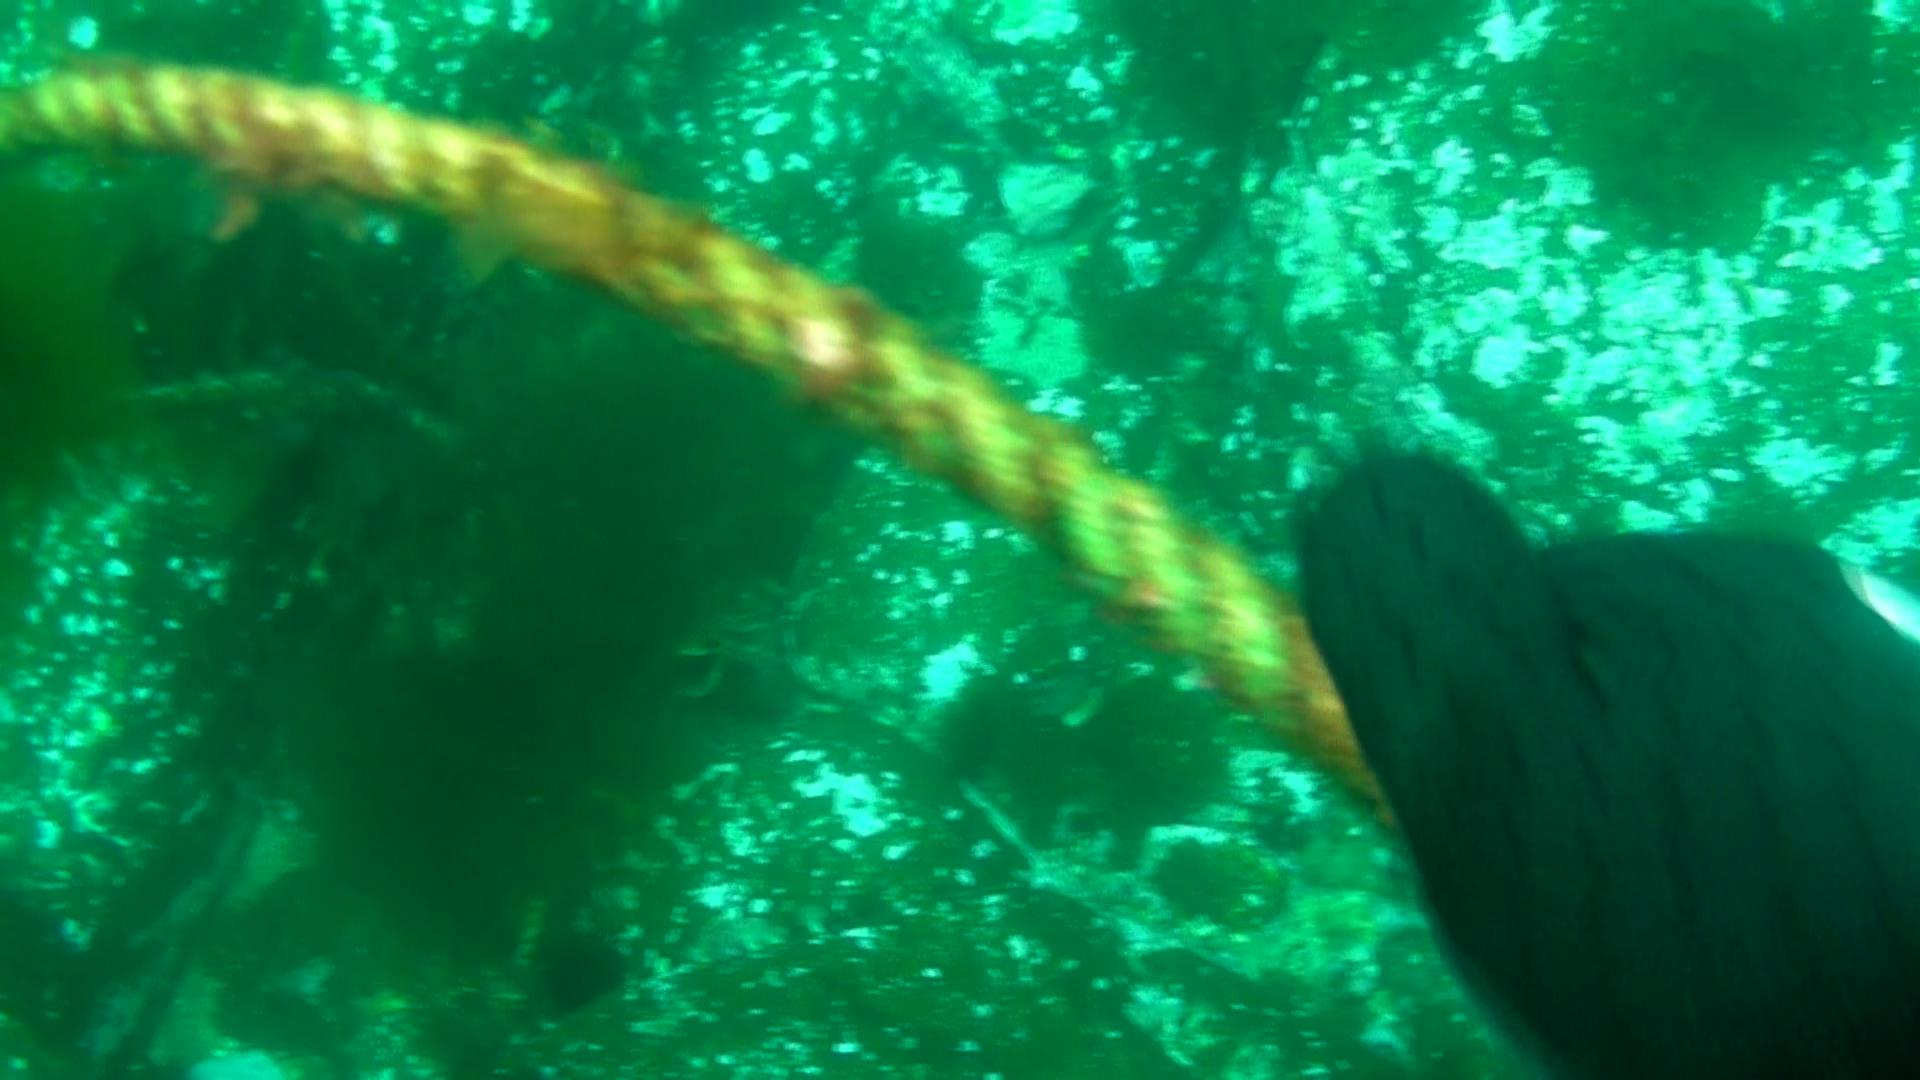rope: (0, 65, 1415, 847)
